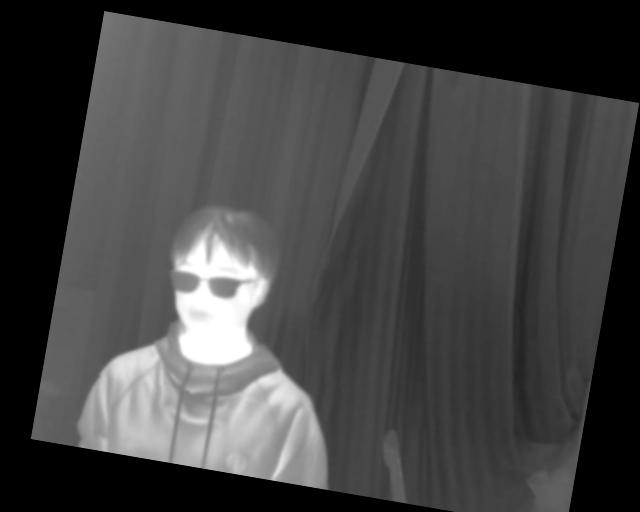face: (157, 197, 286, 345)
